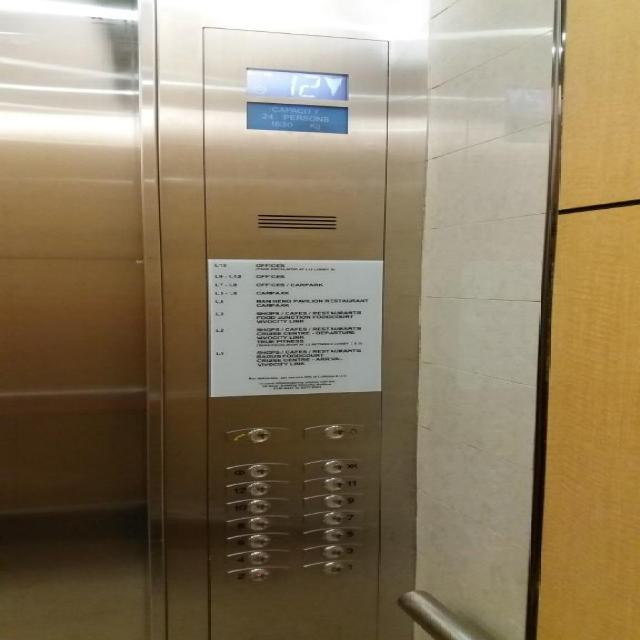1: (300, 558, 366, 576)
10: (222, 497, 291, 514)
11: (300, 474, 366, 492)
12: (222, 479, 291, 496)
2: (222, 565, 291, 582)
3: (300, 542, 366, 560)
4: (222, 548, 291, 565)
5: (300, 525, 366, 543)
6: (222, 531, 291, 548)
7: (300, 508, 366, 526)
8: (222, 514, 291, 532)
9: (300, 491, 366, 508)
alarm: (300, 422, 366, 441)
call: (222, 426, 291, 445)
close: (300, 456, 366, 474)
led: (240, 63, 351, 104), (241, 96, 350, 136)
open: (222, 461, 291, 480)
